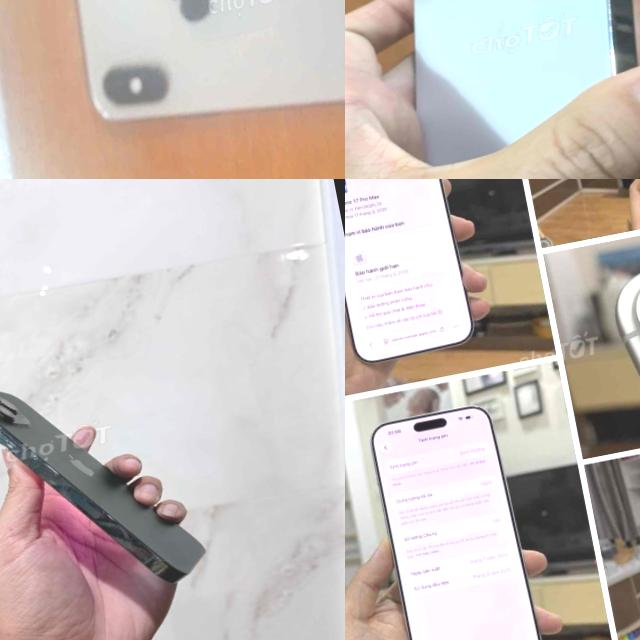gen_12_13: (0, 337, 221, 629)
gen_14: (347, 0, 640, 179)
gen_17: (361, 392, 550, 640), (345, 179, 498, 379)
gen_x_xs: (37, 0, 345, 176)
scratch: (0, 380, 33, 471)
